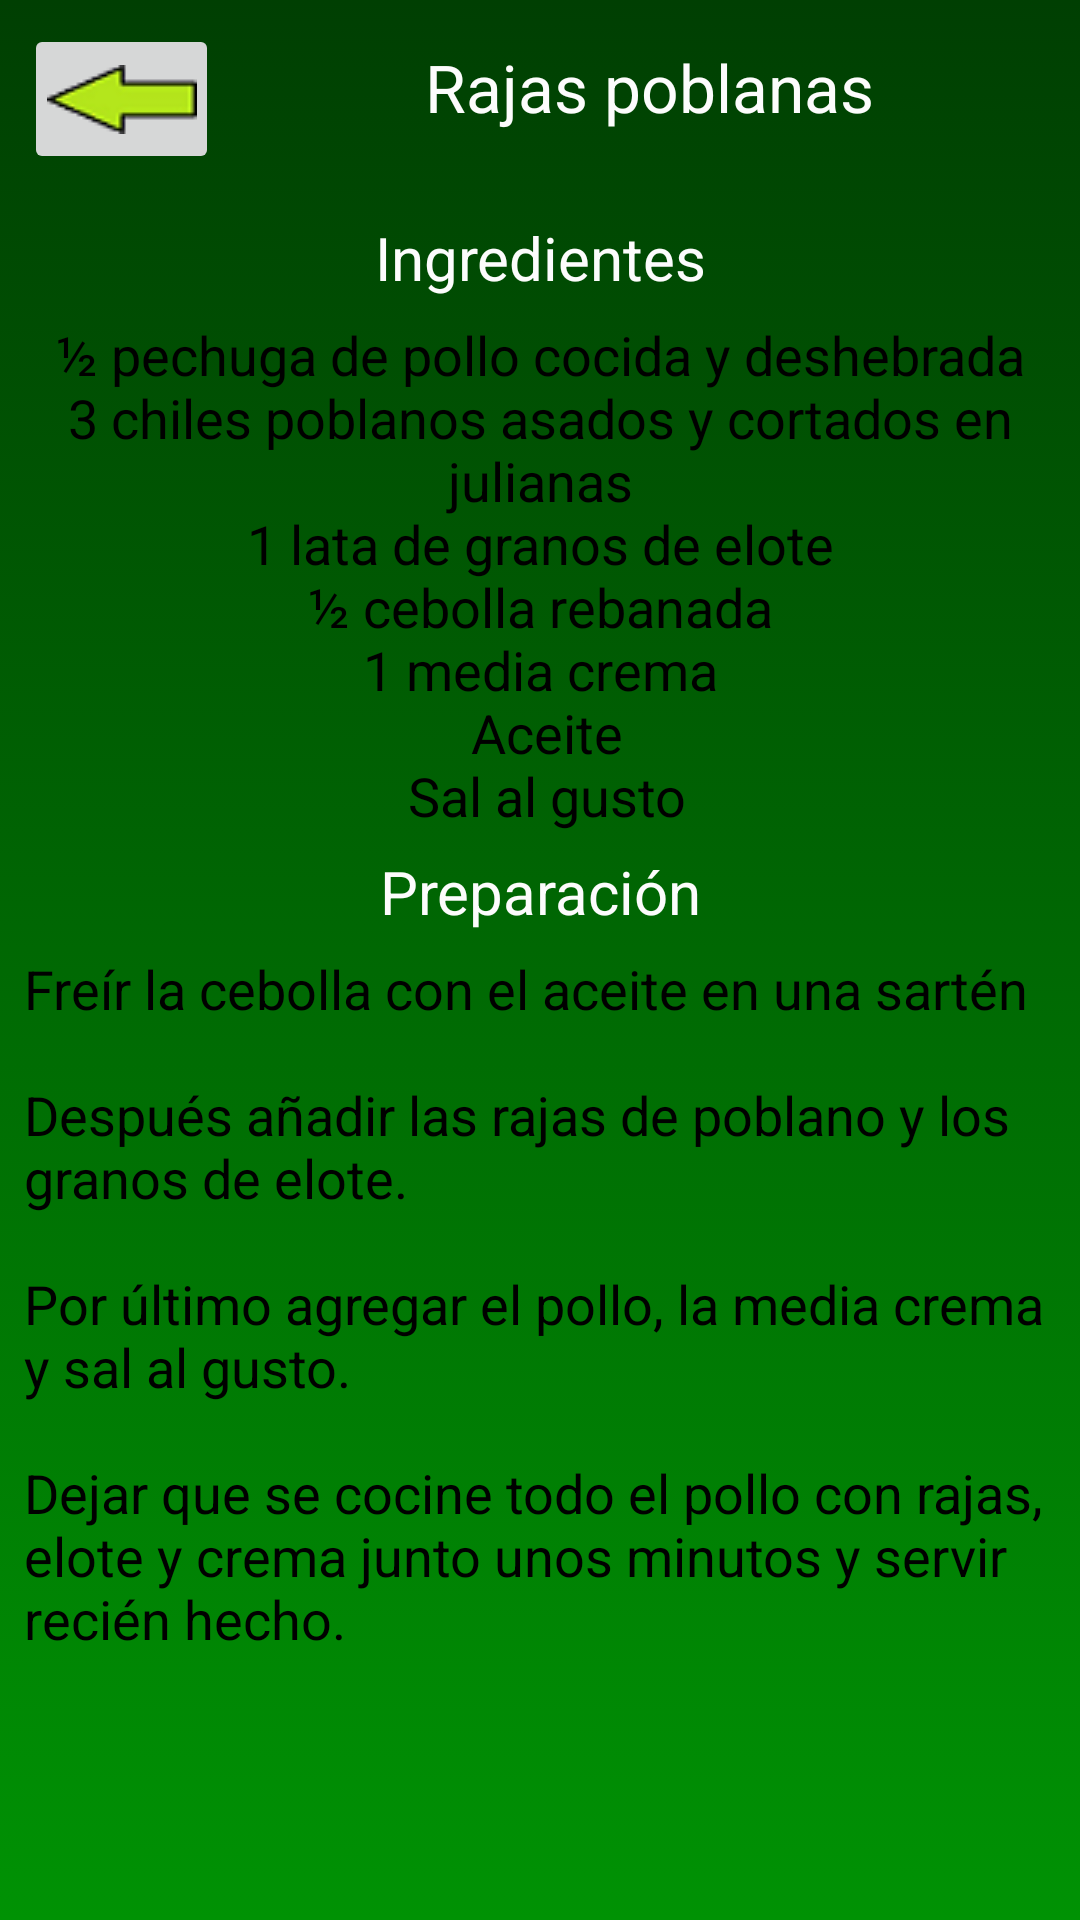

Where to tap for icons on this 1080 x 1920 app screen, as (x=x, y=y):
Regresar: (x=121, y=99)
